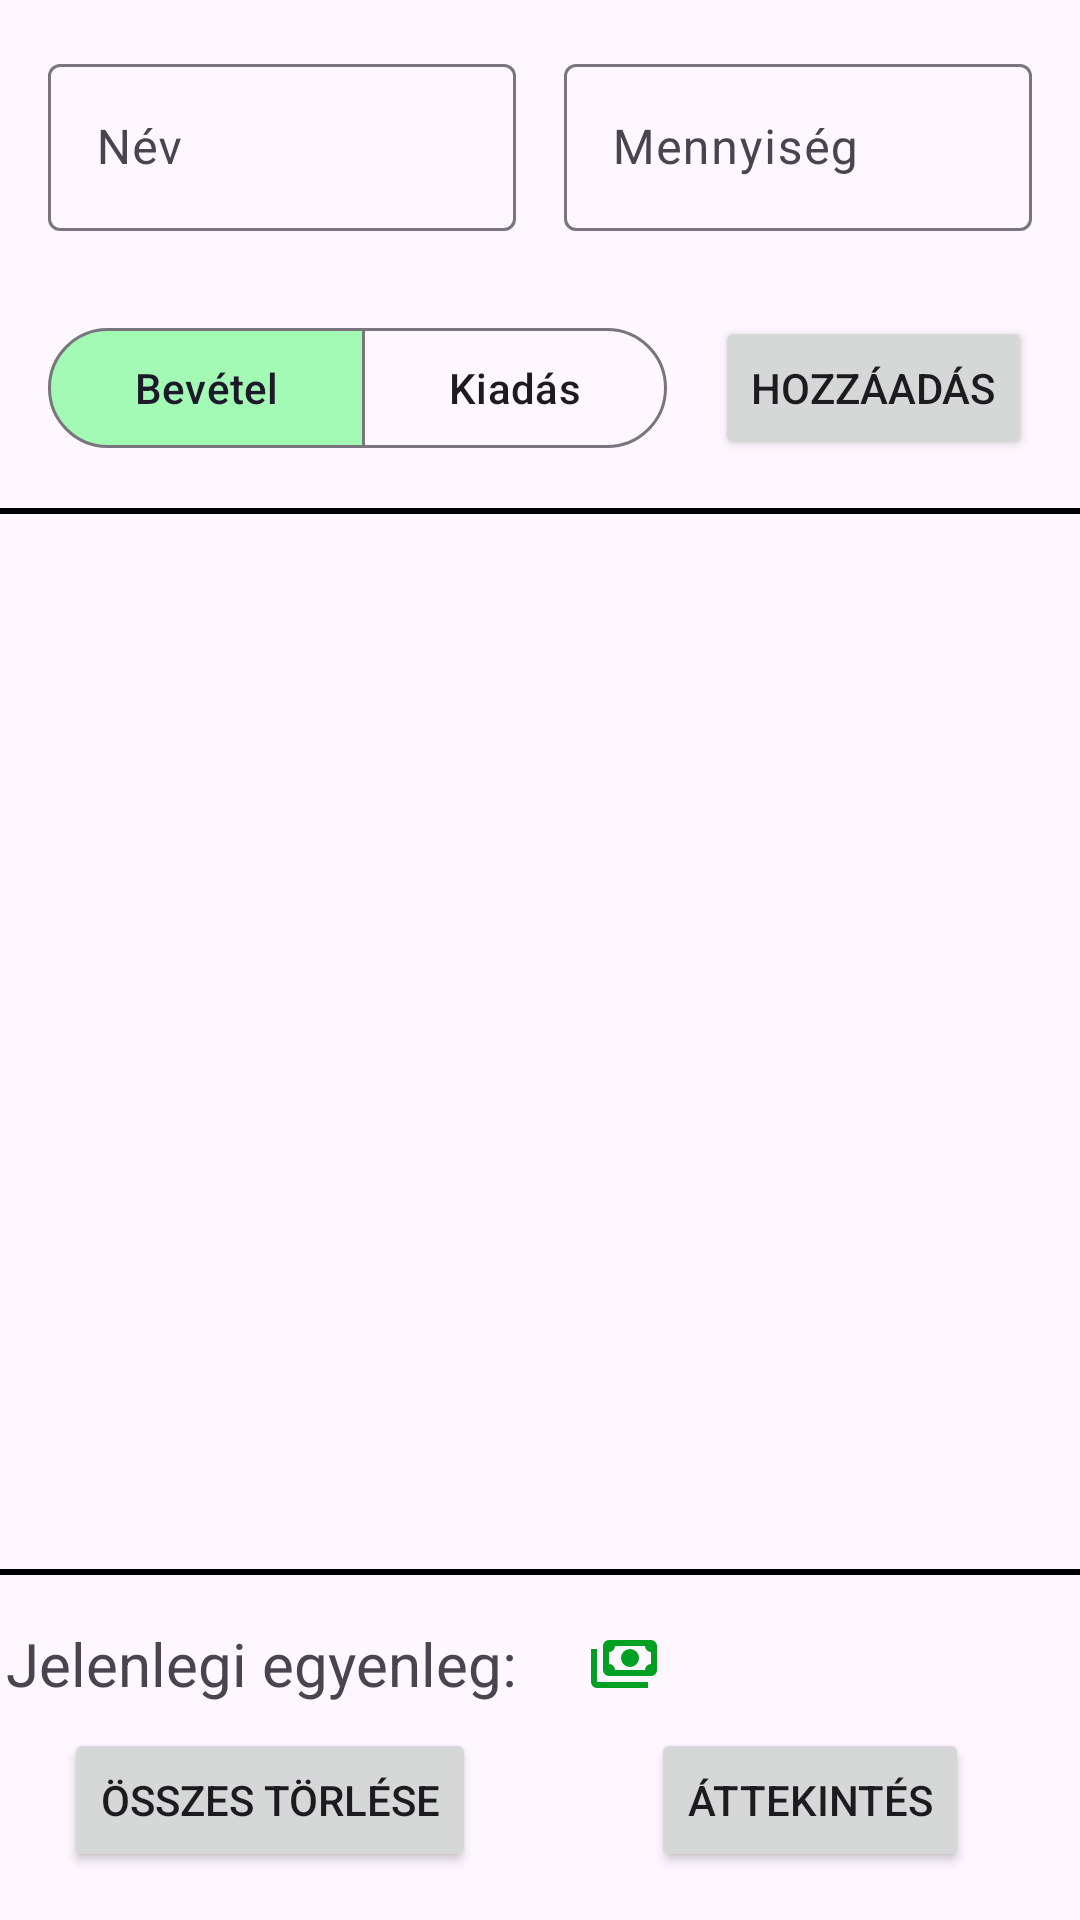

Locate icon controls on the screen. Image size 1080 × 1920, boxes as rect(x1, y1, x2, y2).
payments: rect(591, 1640, 657, 1688)
